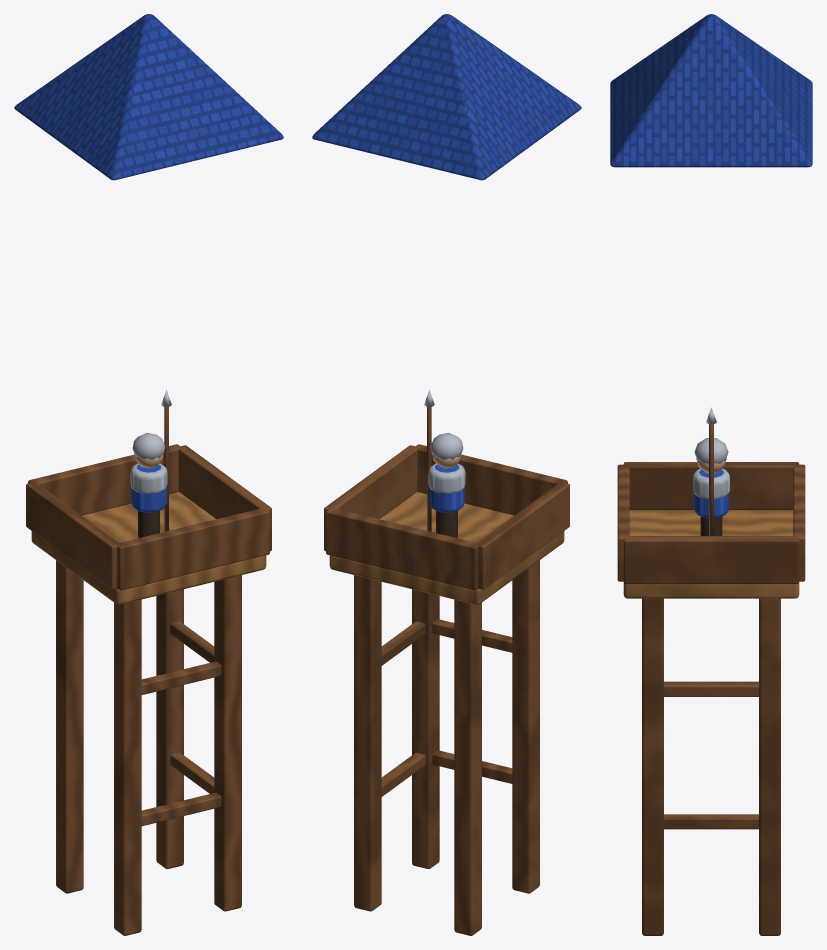
The model's file is watchtower.glb.
3 renders of one model, left to right at view 1: azimuth 30°, elevation 25°; view 2: azimuth 150°, elevation 25°; view 3: azimuth 270°, elevation 25°, orthographic.
Visible parts, largest first — view 1: leg; view 2: leg; view 3: leg.
Boxes of the visible parts, box(x1,y1,x2,y2) form: leg: box(14, 14, 283, 935); leg: box(312, 14, 581, 935); leg: box(610, 14, 812, 935).
Size of the model in its own units: 0.4149 by 2.02 by 0.4149.
Materials: 2 (1 with a texture image).
